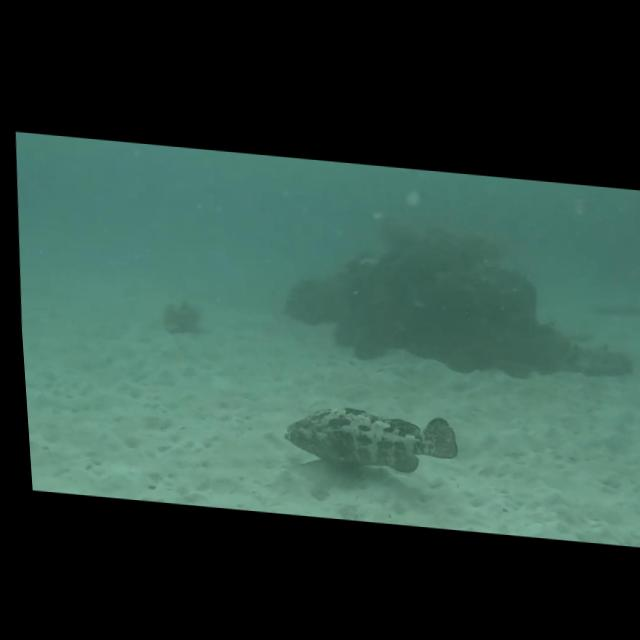Groupers: (281, 397, 460, 479)
